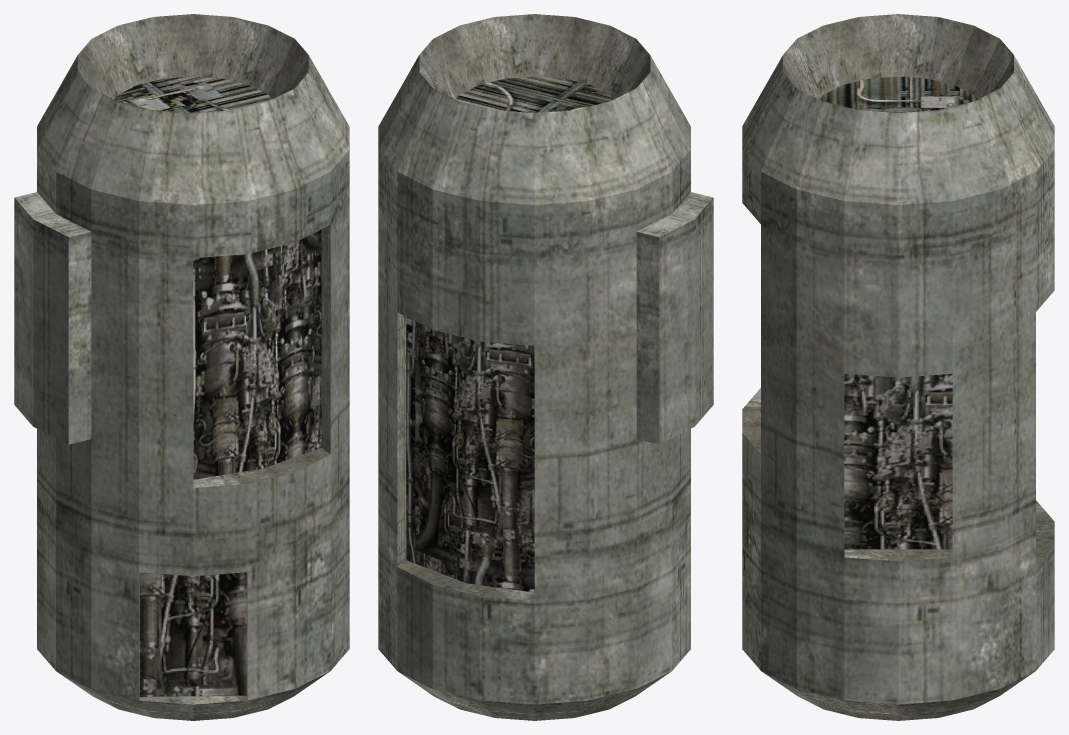
Rendered from thm_prp_junk_s6_l0.fbx.
3 views of the same model, side by side, from view 1: azimuth 30°, elevation 25°; view 2: azimuth 150°, elevation 25°; view 3: azimuth 270°, elevation 25° (orthographic).
Visible parts, largest first — view 1: mesh_node; view 2: mesh_node; view 3: mesh_node.
Boxes of the visible parts, x1,y1,x2,y2 form: mesh_node: (14, 14, 349, 720); mesh_node: (378, 14, 713, 720); mesh_node: (742, 14, 1054, 720).
Size of the model in its own units: 2.16 by 4.23 by 1.97.
